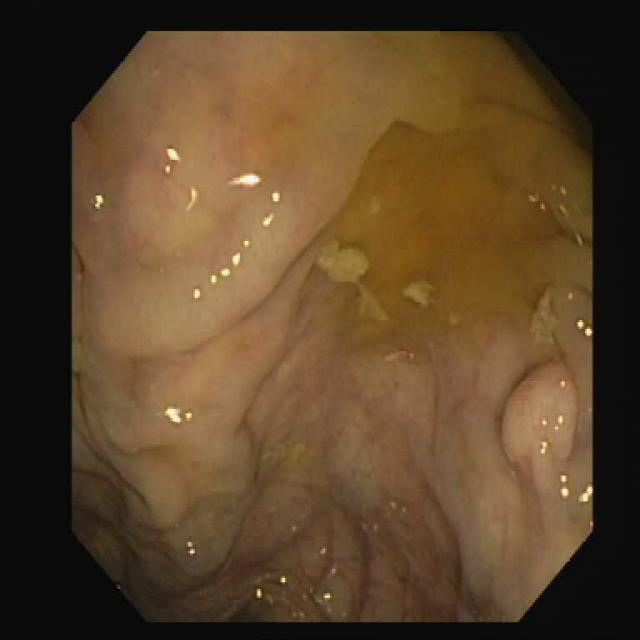tumor: (500, 362, 577, 491)
